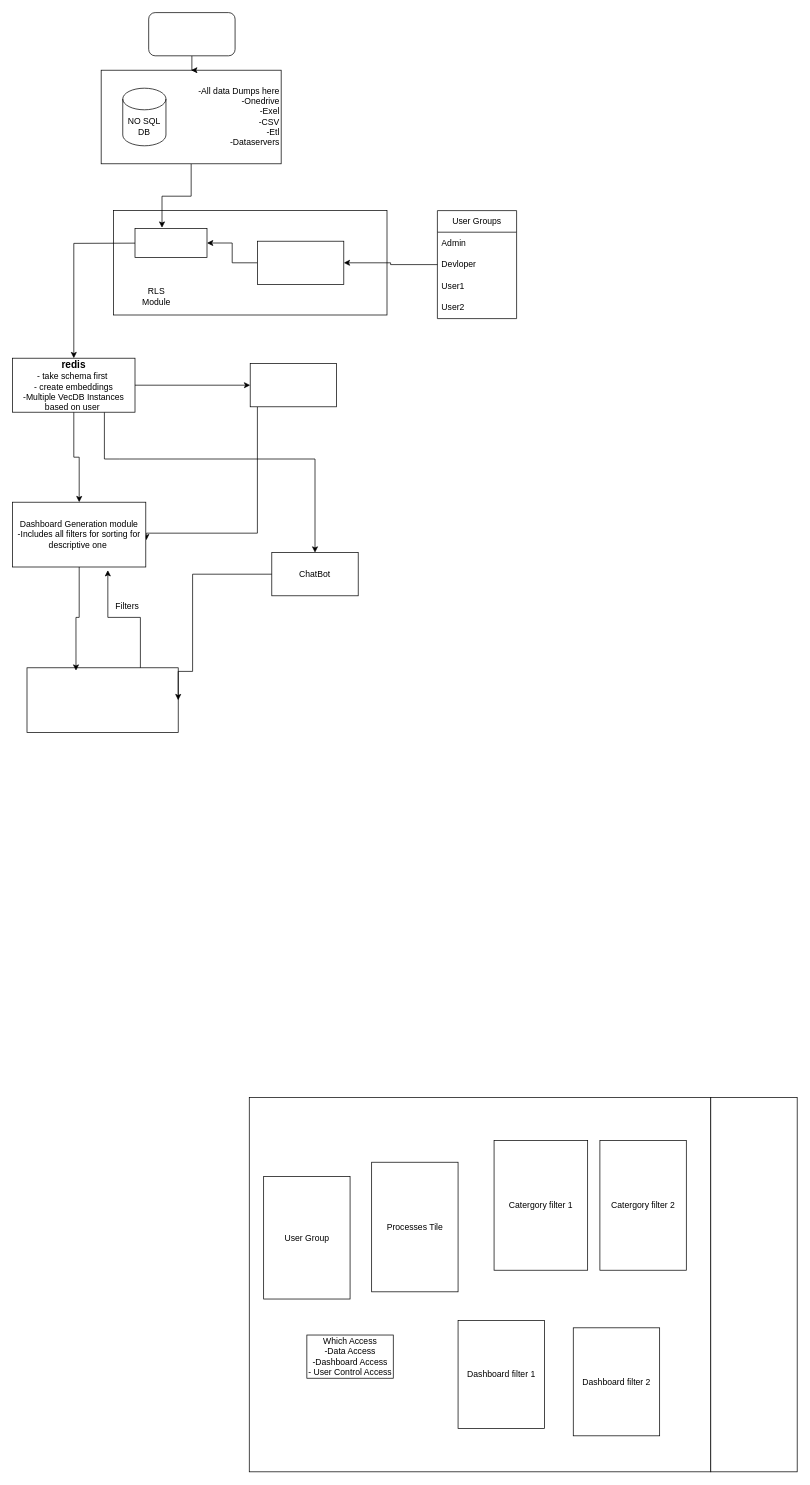
This 810x1485 diagram has some shape labels left out. Here are the shapes that lost their labels. From the top down, the centre of each, then its label:
At [191,34]: "Data endpoint".
At [170,242]: "Sorted Data by RLS".
At [300,262]: "RLS Metadata".
At [293,385]: "LLM generation Pipeline".
At [102,700]: "Front End APIs".
At [753,1284]: "Dasahboard search".
